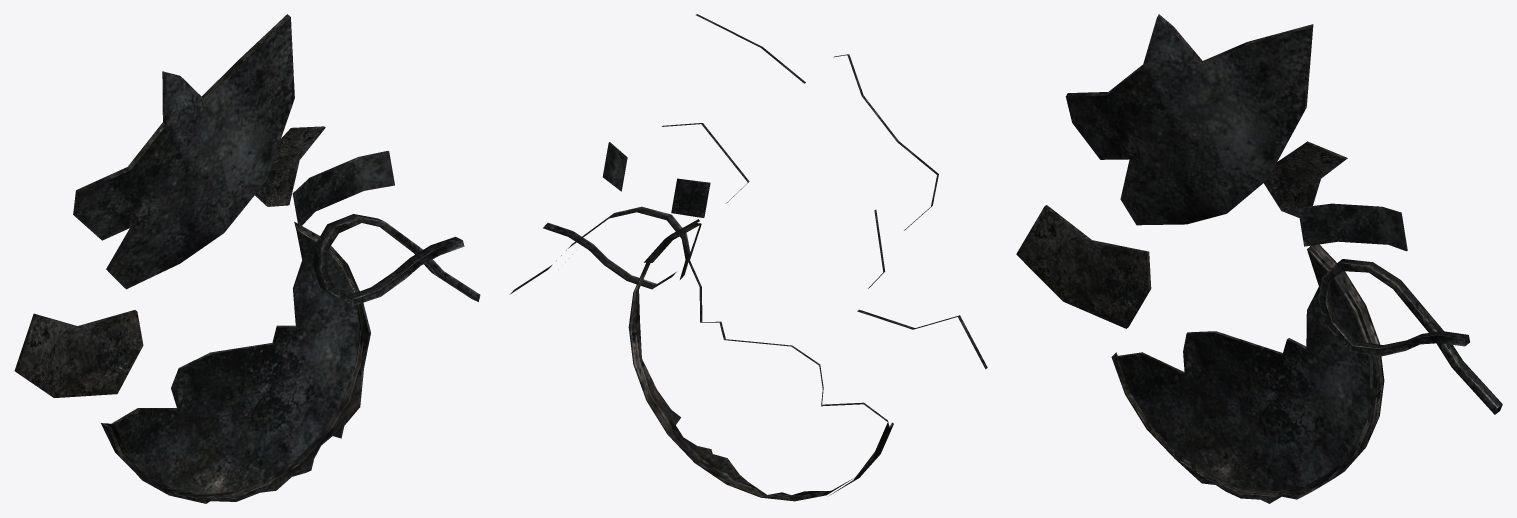
Rendered from prop_barrel_piece.glb.
The picture shows the model from 3 angles, left to right: view 1: azimuth 30°, elevation 25°; view 2: azimuth 150°, elevation 25°; view 3: azimuth 330°, elevation 25°; orthographic projection. The views are drawn at different scales.
Size of the model in its own units: 48.66 by 46.67 by 4.01.
Materials: 1 (1 with a texture image).
